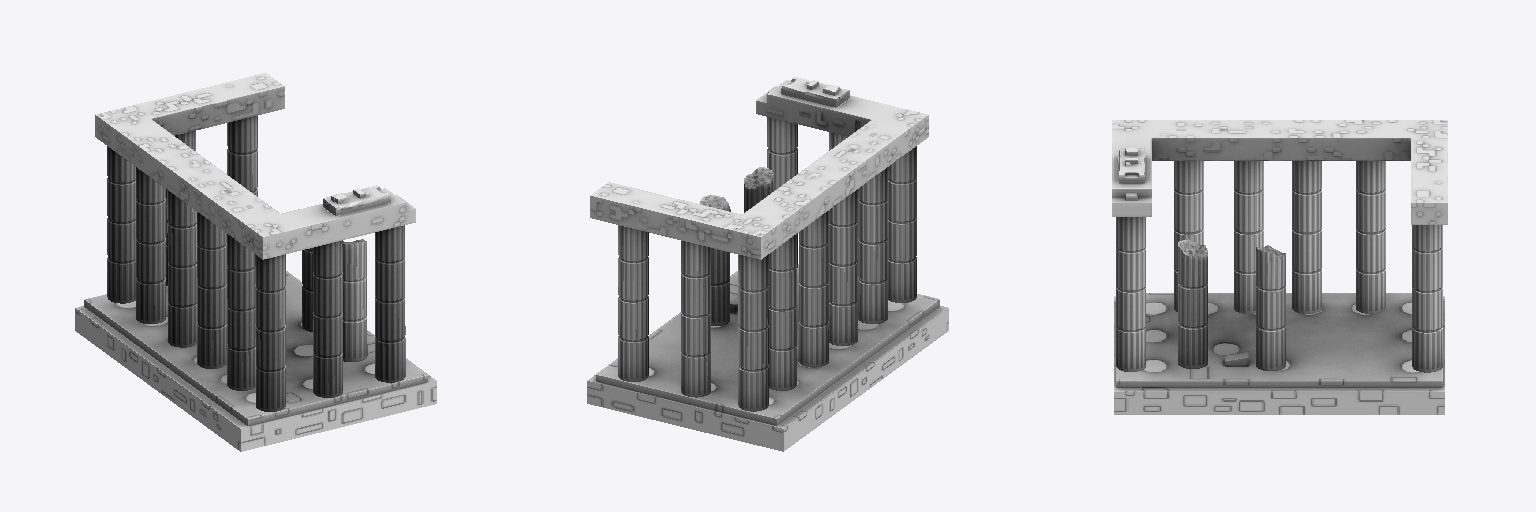
The picture shows the model from 3 angles: view 1: azimuth 30°, elevation 25°; view 2: azimuth 150°, elevation 25°; view 3: azimuth 270°, elevation 25°; orthographic projection.
Parts seen in each view (by area): view 1: Cube_008; view 2: Cube_008; view 3: Cube_008.
Boxes of the visible parts, box(x1,y1,x2,y2) form: Cube_008: box(75, 73, 436, 451); Cube_008: box(587, 77, 948, 451); Cube_008: box(1112, 120, 1447, 414).
Bounding box in the file's own units: 18.09 × 19.61 × 26.78.
1 materials, 1 textured.